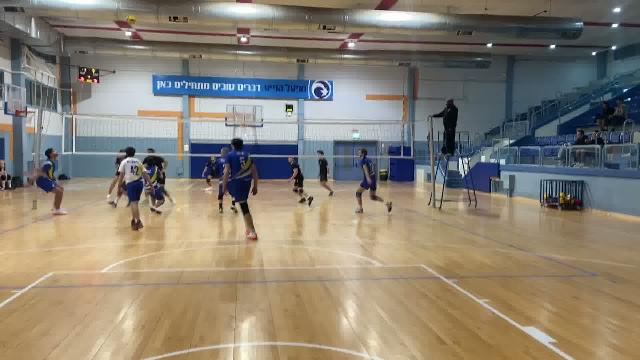ball: (123, 15, 135, 27)
